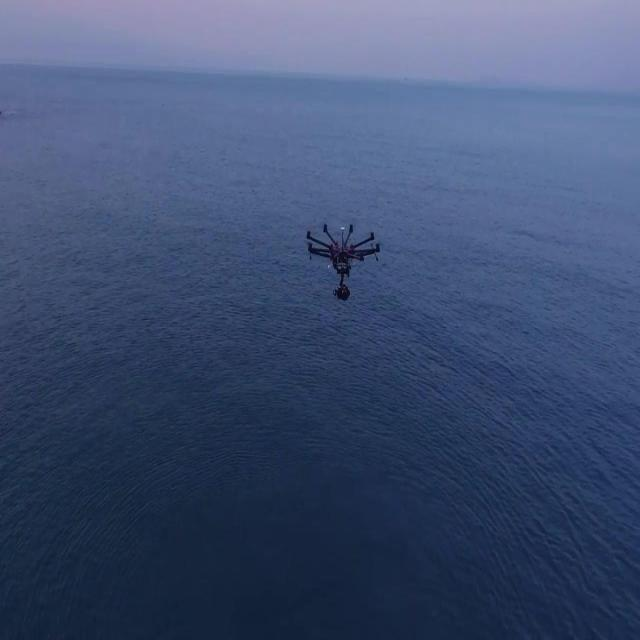drone: (305, 220, 384, 309)
